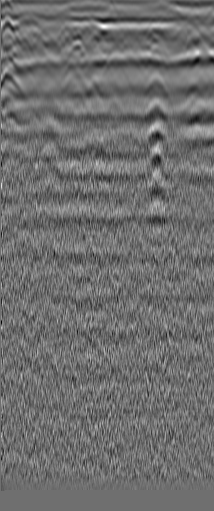오수: (15, 11, 54, 45)
우수: (178, 30, 212, 58)
